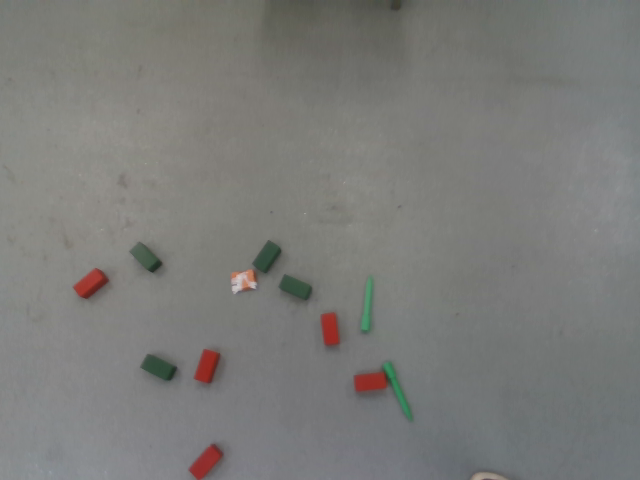Probe: (377, 359, 414, 424), (358, 273, 376, 335)
